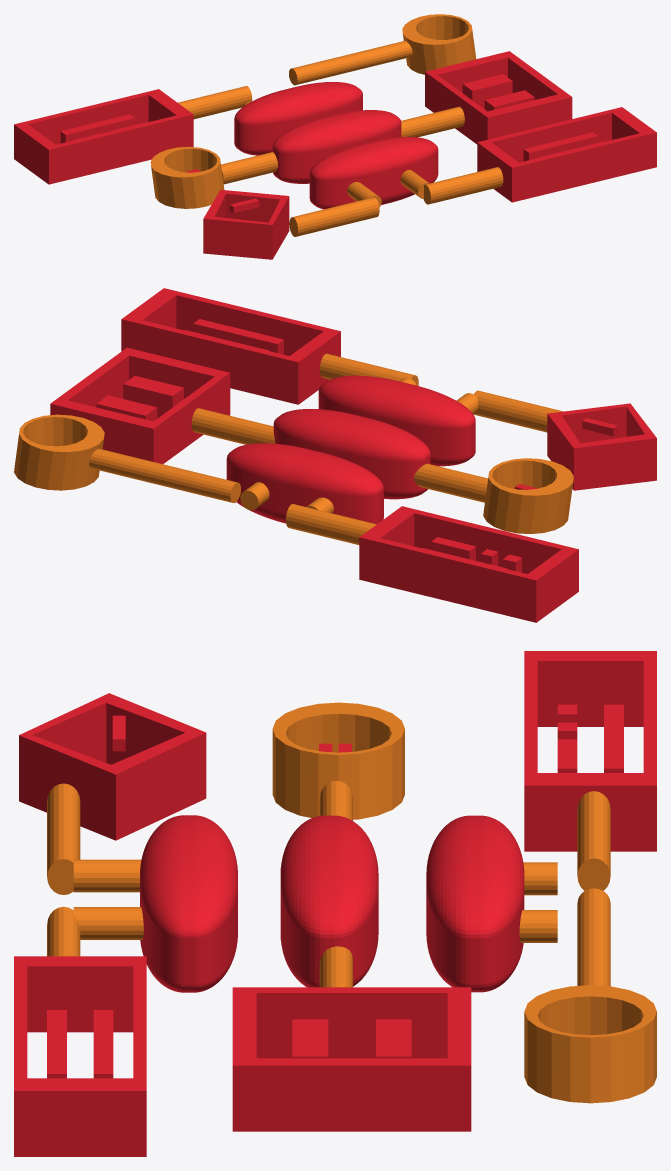
File: estructura.obj
The picture shows the model from 3 angles, top to bottom: view 1: azimuth 30°, elevation 25°; view 2: azimuth 150°, elevation 25°; view 3: azimuth 270°, elevation 25°; orthographic projection. The views are drawn at different scales.
Parts seen in each view (by area): view 1: group_0_15277357, group_0_16089887; view 2: group_0_15277357, group_0_16089887; view 3: group_0_15277357, group_0_16089887.
Boxes of the visible parts, x1=… form: group_0_15277357: x1=14, y1=51, x2=656, y2=259; group_0_16089887: x1=150, y1=14, x2=503, y2=236; group_0_15277357: x1=50, y1=288, x2=656, y2=622; group_0_16089887: x1=14, y1=353, x2=573, y2=544; group_0_15277357: x1=14, y1=651, x2=656, y2=1156; group_0_16089887: x1=47, y1=702, x2=656, y2=1103.
Bounding box in the file's own units: 157 × 17.75 × 97.
